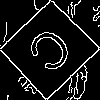C: (24, 24, 82, 83)
